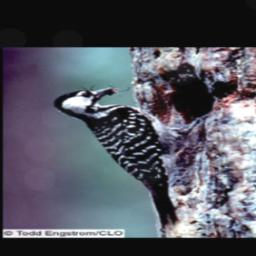Woodpecker: (51, 84, 195, 225)
